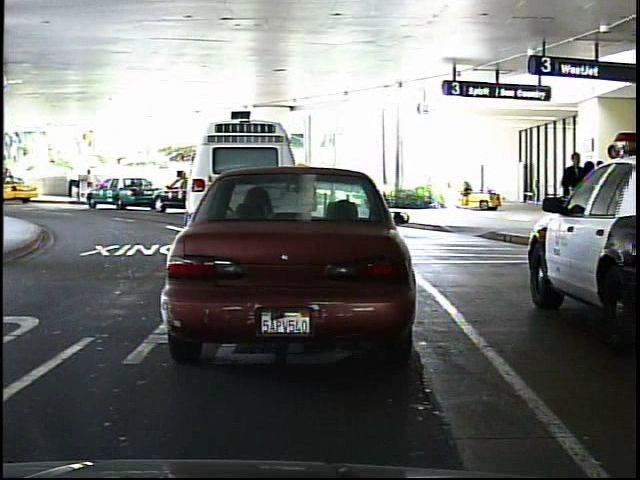person: (556, 146, 591, 245), (81, 164, 99, 199), (66, 161, 80, 200)
